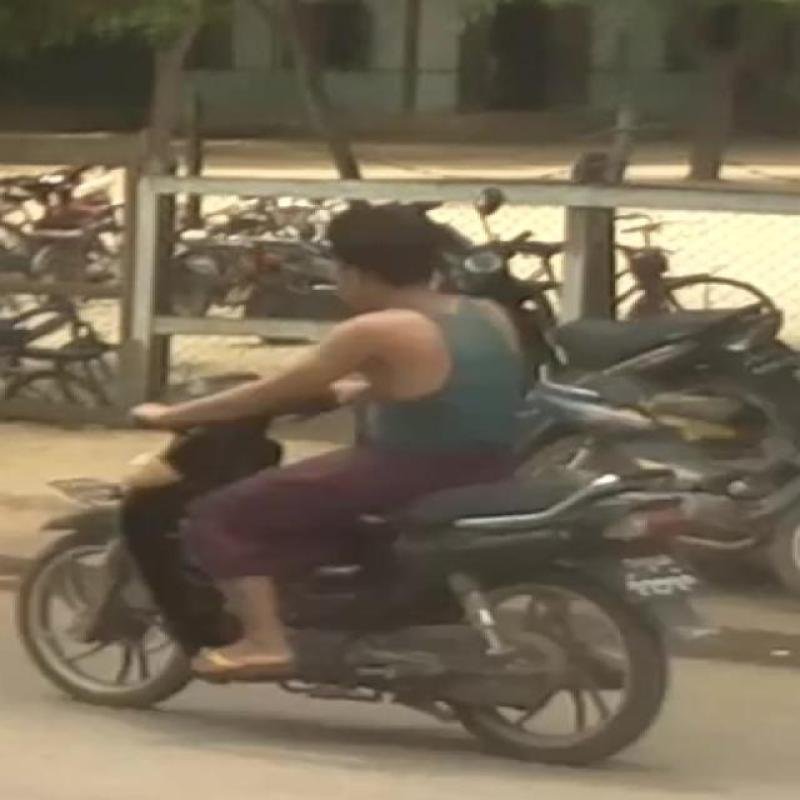nohelmet: (289, 183, 473, 306)
